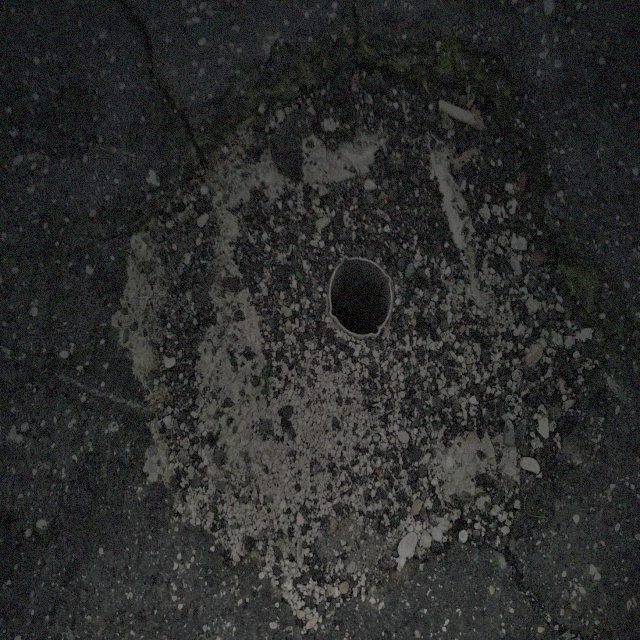pothole: (112, 31, 590, 614)
